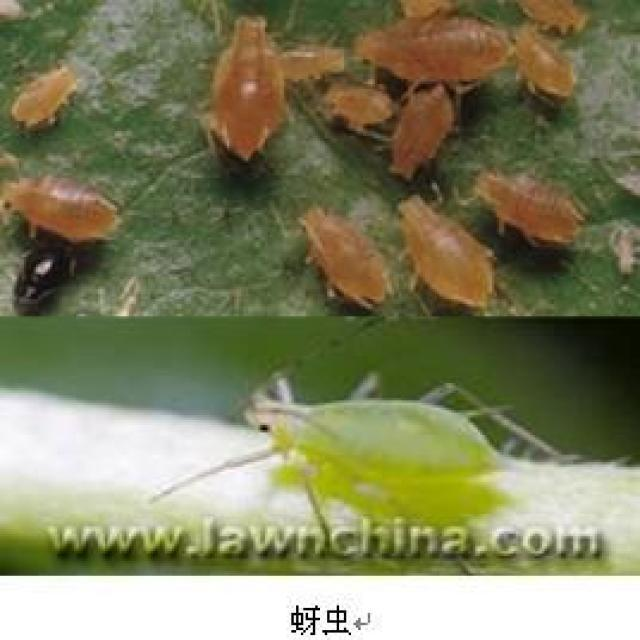aphid: (138, 338, 586, 529), (188, 20, 304, 188), (332, 15, 532, 96), (377, 195, 500, 326), (298, 208, 393, 324), (469, 154, 583, 250), (0, 168, 123, 248), (374, 96, 452, 185), (508, 16, 588, 100), (11, 59, 84, 147), (318, 78, 391, 128), (280, 42, 338, 80)
